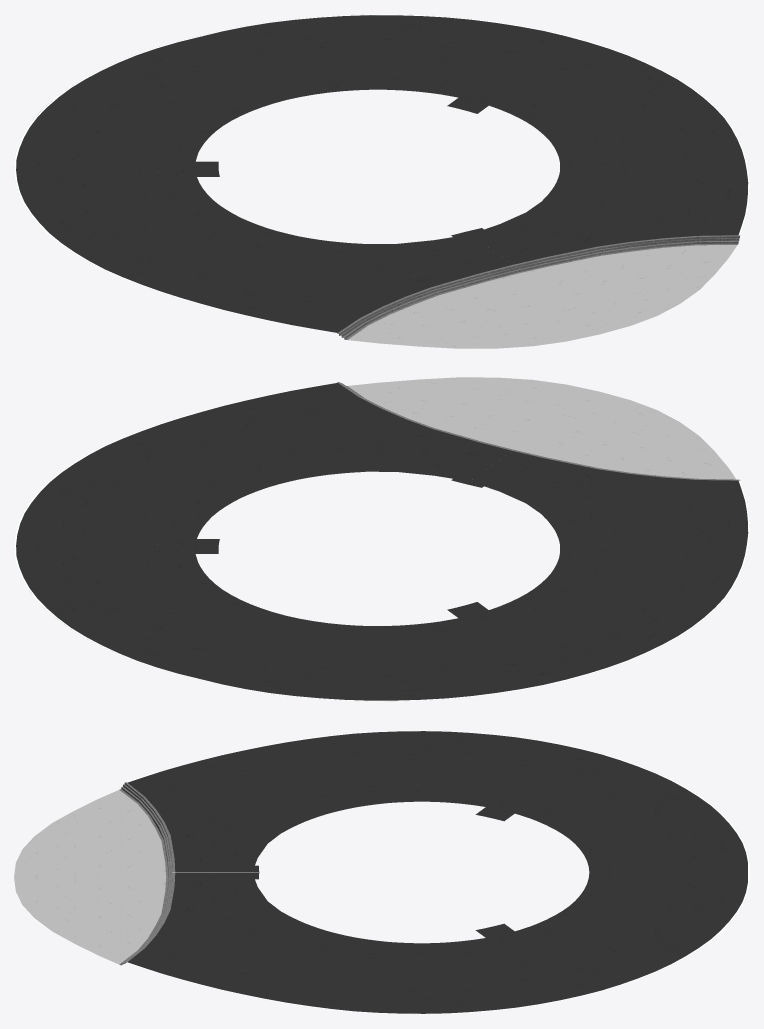
Rendered from GroundFloor.fbx.
3 views of the same model, one above another, from view 1: azimuth 30°, elevation 25°; view 2: azimuth 150°, elevation 25°; view 3: azimuth 270°, elevation 25° (orthographic). The views are drawn at different scales.
Visible parts, largest first — view 1: GroundFloor; view 2: GroundFloor; view 3: GroundFloor.
Boxes of the visible parts, left/top/right/bottom form: GroundFloor: left=14, top=14, right=749, bottom=348; GroundFloor: left=14, top=377, right=749, bottom=701; GroundFloor: left=14, top=730, right=749, bottom=1014.
Size of the model in its own units: 121 by 0.935 by 132.
